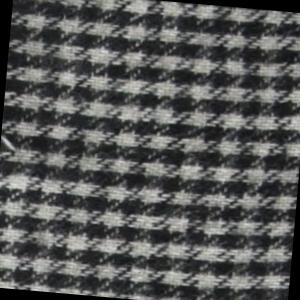Damage: (1, 127, 21, 166)
